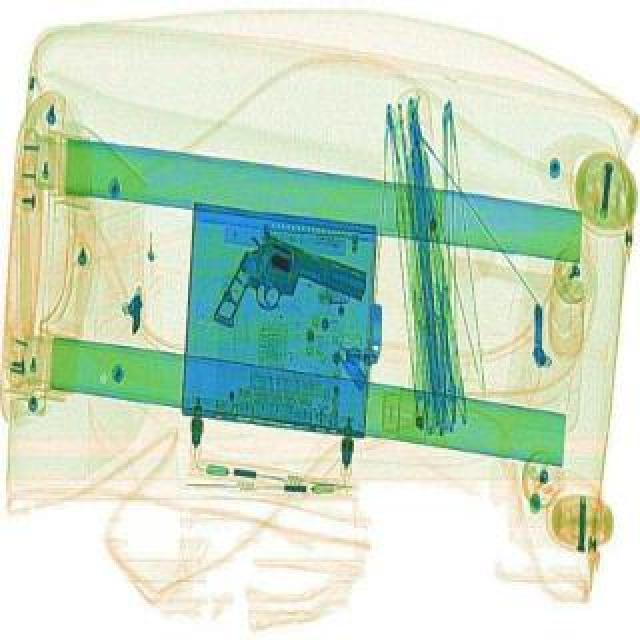gun: (210, 224, 374, 364)
